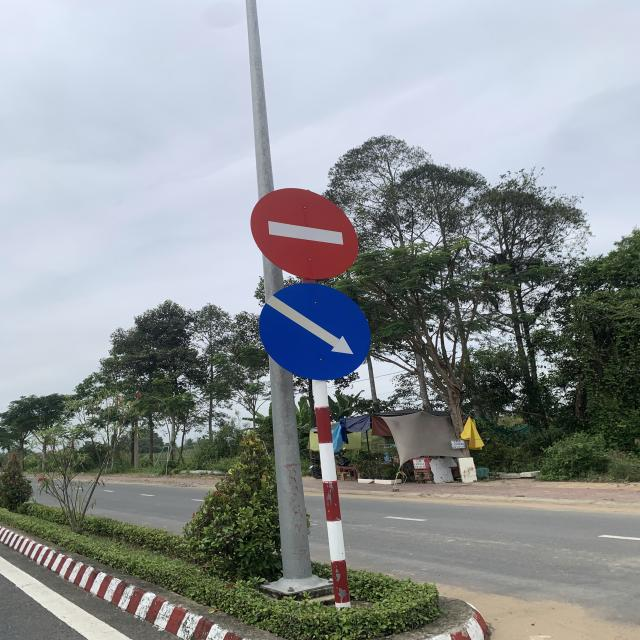Cam_Di_Nguoc_Chieu: (250, 186, 360, 280)
Chi_Huong_Di_Phai: (260, 282, 370, 378)
